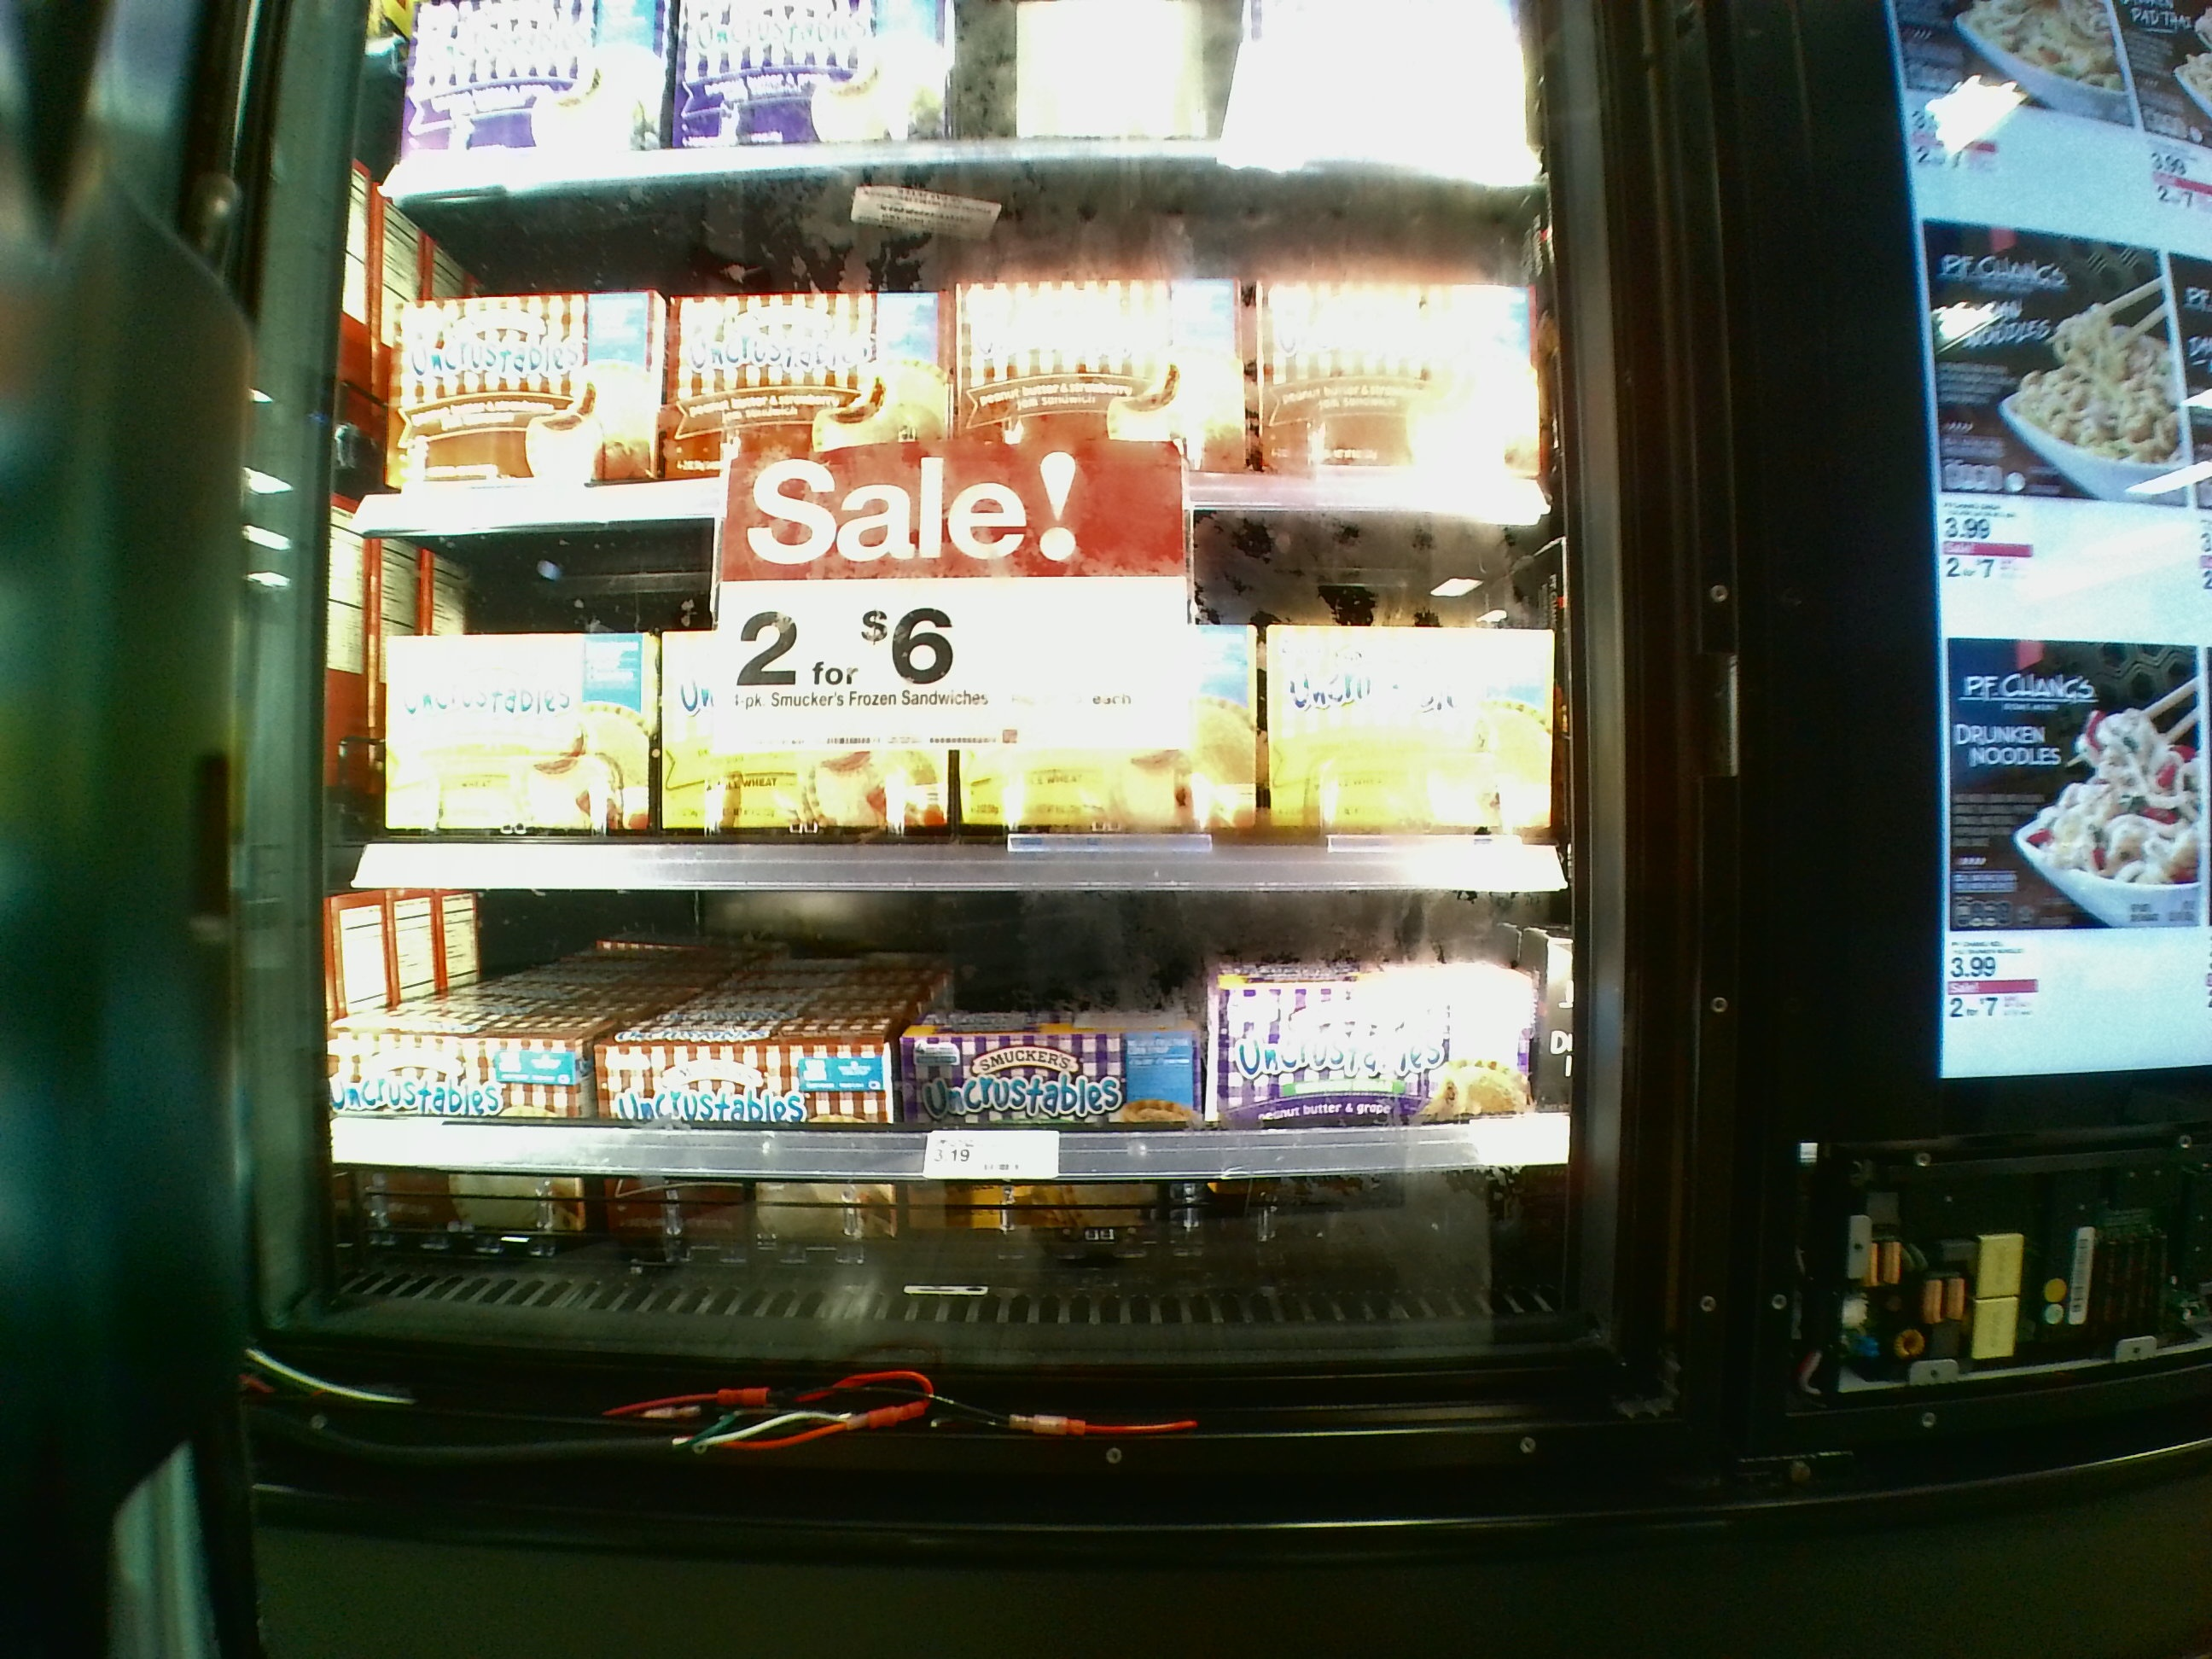shelf: (317, 882, 1588, 1432), (338, 535, 1576, 889), (369, 199, 1550, 530)
